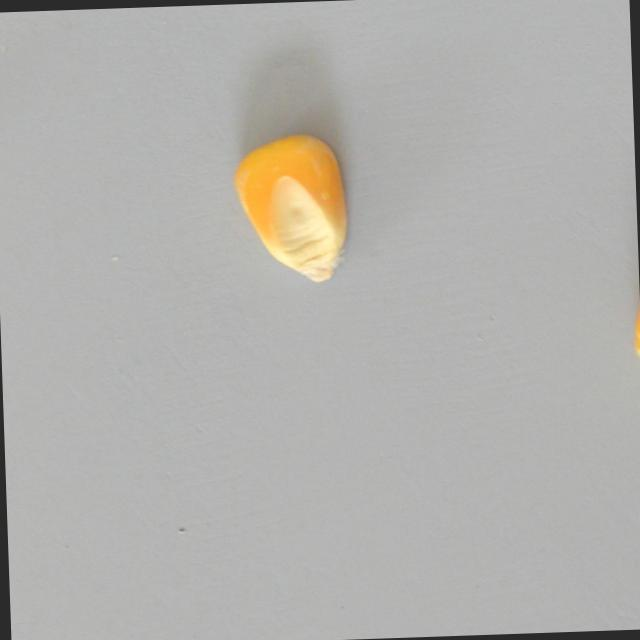entero: (227, 126, 354, 288)
